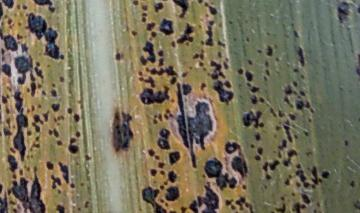tarspot: (175, 82, 215, 169), (24, 11, 66, 61), (6, 166, 46, 213), (202, 157, 239, 191), (11, 89, 28, 162), (110, 110, 135, 153), (223, 139, 249, 178), (197, 183, 221, 213), (13, 54, 35, 86), (141, 186, 167, 213), (139, 85, 170, 106), (212, 79, 234, 107), (240, 109, 265, 130), (176, 21, 195, 45), (138, 41, 156, 65), (144, 65, 179, 77), (57, 159, 72, 186), (293, 169, 311, 190), (336, 1, 351, 24), (235, 196, 255, 213), (209, 58, 225, 79), (157, 127, 171, 150), (283, 148, 298, 169), (171, 1, 189, 18), (158, 17, 174, 36), (31, 1, 56, 13), (2, 34, 19, 51), (137, 75, 157, 89), (282, 123, 294, 145), (295, 46, 307, 67), (204, 24, 214, 48), (6, 153, 18, 173), (203, 1, 219, 15), (3, 13, 16, 30), (67, 137, 79, 155), (33, 61, 45, 79), (49, 174, 63, 189), (165, 186, 179, 201), (168, 150, 181, 166), (181, 82, 194, 97), (1, 95, 10, 116), (310, 164, 318, 186), (30, 121, 43, 134), (292, 201, 306, 213), (1, 64, 12, 79), (152, 1, 164, 14), (152, 112, 164, 125), (269, 160, 281, 173), (224, 198, 235, 212), (189, 198, 199, 213), (163, 108, 174, 121), (33, 113, 46, 124), (20, 40, 30, 54), (167, 169, 176, 184), (282, 96, 293, 108), (40, 110, 50, 123), (294, 98, 304, 111), (29, 82, 37, 98), (1, 195, 8, 213), (28, 143, 42, 152), (355, 53, 360, 78), (145, 21, 156, 32), (44, 159, 54, 171), (282, 83, 292, 95), (1, 1, 14, 10), (351, 198, 360, 211), (244, 69, 253, 82), (249, 93, 258, 106), (320, 169, 330, 180), (55, 203, 66, 213), (275, 203, 286, 213), (301, 193, 311, 204), (265, 45, 274, 57), (5, 116, 13, 129), (268, 105, 276, 118), (51, 102, 61, 112), (180, 70, 190, 80), (278, 139, 288, 149), (49, 88, 58, 99), (215, 39, 226, 48), (222, 80, 233, 89), (53, 115, 66, 122), (291, 29, 300, 39), (140, 2, 149, 12), (252, 153, 261, 163), (198, 82, 207, 92), (2, 127, 12, 136), (277, 109, 286, 119), (253, 131, 261, 142), (249, 85, 260, 93), (287, 113, 298, 121), (262, 161, 269, 173), (149, 168, 158, 177), (8, 146, 17, 155), (15, 32, 24, 41), (258, 94, 265, 105), (114, 52, 122, 61), (149, 31, 158, 39), (157, 49, 165, 58), (136, 69, 145, 77), (146, 148, 154, 157), (157, 161, 166, 169), (158, 170, 166, 179), (222, 61, 231, 69), (191, 53, 200, 61), (199, 48, 205, 60), (40, 89, 48, 98), (9, 198, 17, 207), (299, 89, 307, 98), (73, 113, 80, 123), (237, 66, 244, 76), (216, 50, 223, 60), (349, 179, 356, 189), (30, 104, 37, 114), (283, 177, 290, 187), (1, 46, 5, 63), (21, 2, 29, 10), (157, 57, 165, 65), (279, 195, 287, 203), (302, 129, 310, 137), (292, 90, 300, 98), (256, 146, 263, 155), (299, 72, 306, 81), (52, 127, 58, 137), (217, 19, 223, 29), (140, 16, 147, 24), (130, 29, 137, 37), (84, 154, 92, 161), (241, 183, 248, 191), (179, 206, 187, 213), (315, 200, 322, 208), (275, 124, 282, 132), (304, 150, 312, 157), (265, 67, 270, 78), (170, 76, 176, 85), (84, 200, 90, 209), (245, 35, 251, 44), (304, 100, 310, 109), (308, 105, 314, 114), (291, 67, 300, 73), (277, 148, 282, 158), (66, 107, 73, 114), (152, 154, 159, 161), (264, 173, 271, 180), (294, 181, 301, 188), (170, 40, 176, 48), (75, 130, 81, 138), (157, 185, 165, 191), (343, 139, 349, 147), (290, 190, 296, 198), (294, 162, 302, 168), (1, 27, 4, 42), (140, 12, 147, 18), (59, 76, 65, 83), (1, 2, 3, 23), (56, 140, 63, 146), (246, 59, 253, 65), (245, 81, 251, 88), (199, 39, 205, 46), (37, 83, 43, 90), (37, 103, 44, 109), (18, 168, 24, 175), (265, 30, 271, 37), (232, 36, 238, 43), (45, 63, 51, 70), (206, 20, 214, 25), (47, 128, 52, 136), (262, 74, 267, 82), (78, 182, 86, 187), (1, 183, 4, 196), (356, 5, 360, 14), (132, 1, 138, 7), (15, 3, 21, 9), (198, 60, 204, 66), (256, 48, 262, 54), (227, 19, 233, 25), (12, 207, 18, 213), (11, 173, 17, 179), (17, 21, 23, 27), (274, 56, 280, 62), (56, 189, 62, 195), (76, 206, 82, 212), (34, 135, 39, 142), (25, 130, 32, 135), (311, 208, 318, 213), (291, 79, 296, 86), (70, 182, 75, 188), (159, 198, 164, 204), (264, 60, 269, 66), (202, 66, 207, 72), (170, 98, 176, 103), (168, 210, 177, 213), (197, 24, 202, 29), (307, 118, 312, 123), (50, 83, 55, 87), (196, 1, 202, 4), (269, 210, 275, 213), (352, 1, 356, 4)
